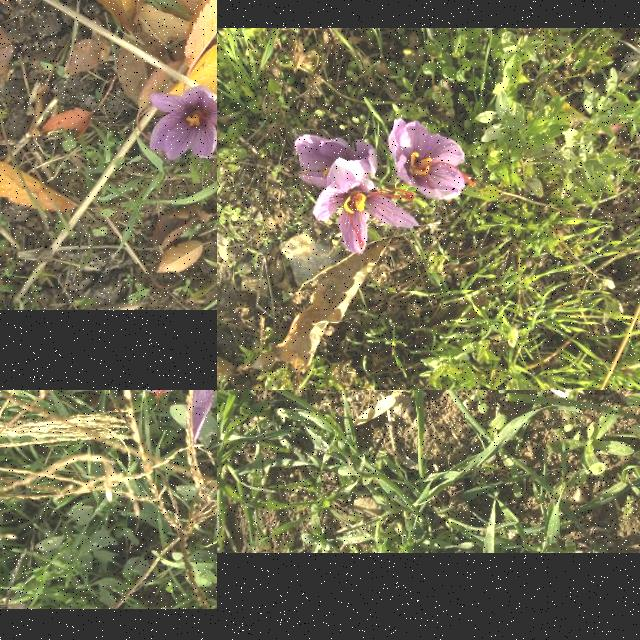flower: (388, 118, 474, 200), (151, 74, 217, 159), (112, 390, 217, 443)
overlap: (295, 135, 419, 253)
